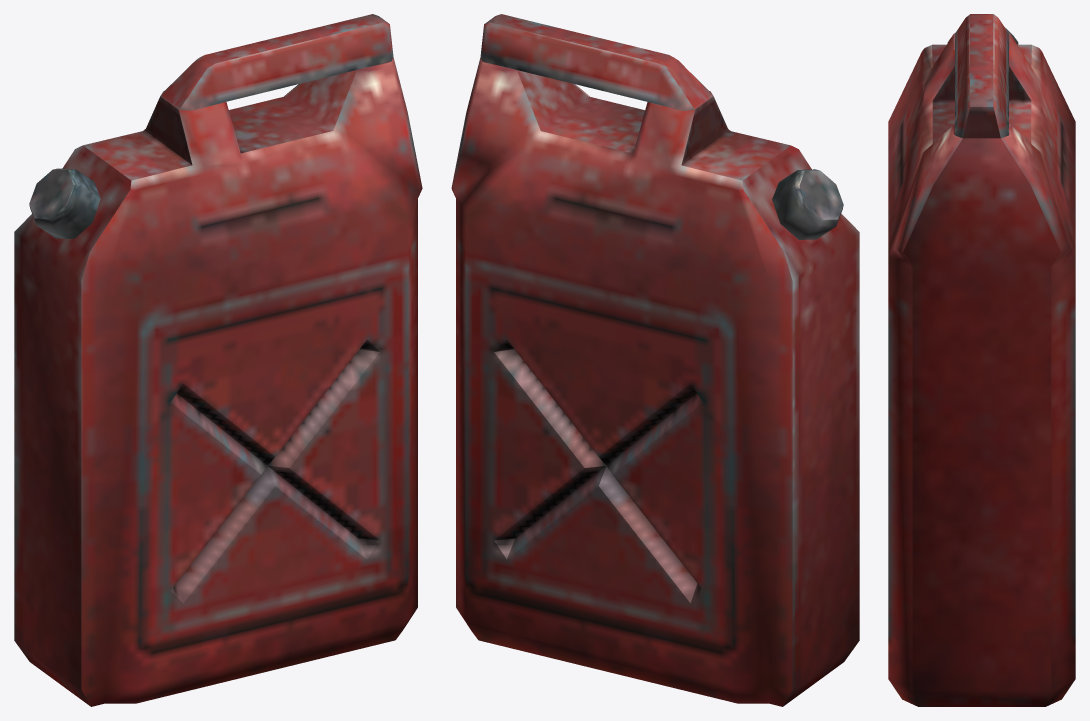
Rendered from Pickup_FuelA.glb.
3 views of the same model, side by side, from view 1: azimuth 30°, elevation 25°; view 2: azimuth 150°, elevation 25°; view 3: azimuth 270°, elevation 25° (orthographic). The views are drawn at different scales.
Parts seen in each view (by area): view 1: pk_fuel_a; view 2: pk_fuel_a; view 3: pk_fuel_a.
Boxes of the visible parts, x1,y1,x2,y2 form: pk_fuel_a: (14, 14, 422, 706); pk_fuel_a: (451, 14, 859, 706); pk_fuel_a: (888, 14, 1075, 706).
Size of the model in its own units: 0.5284 by 0.8515 by 0.2372.
1 material, 1 textured.
